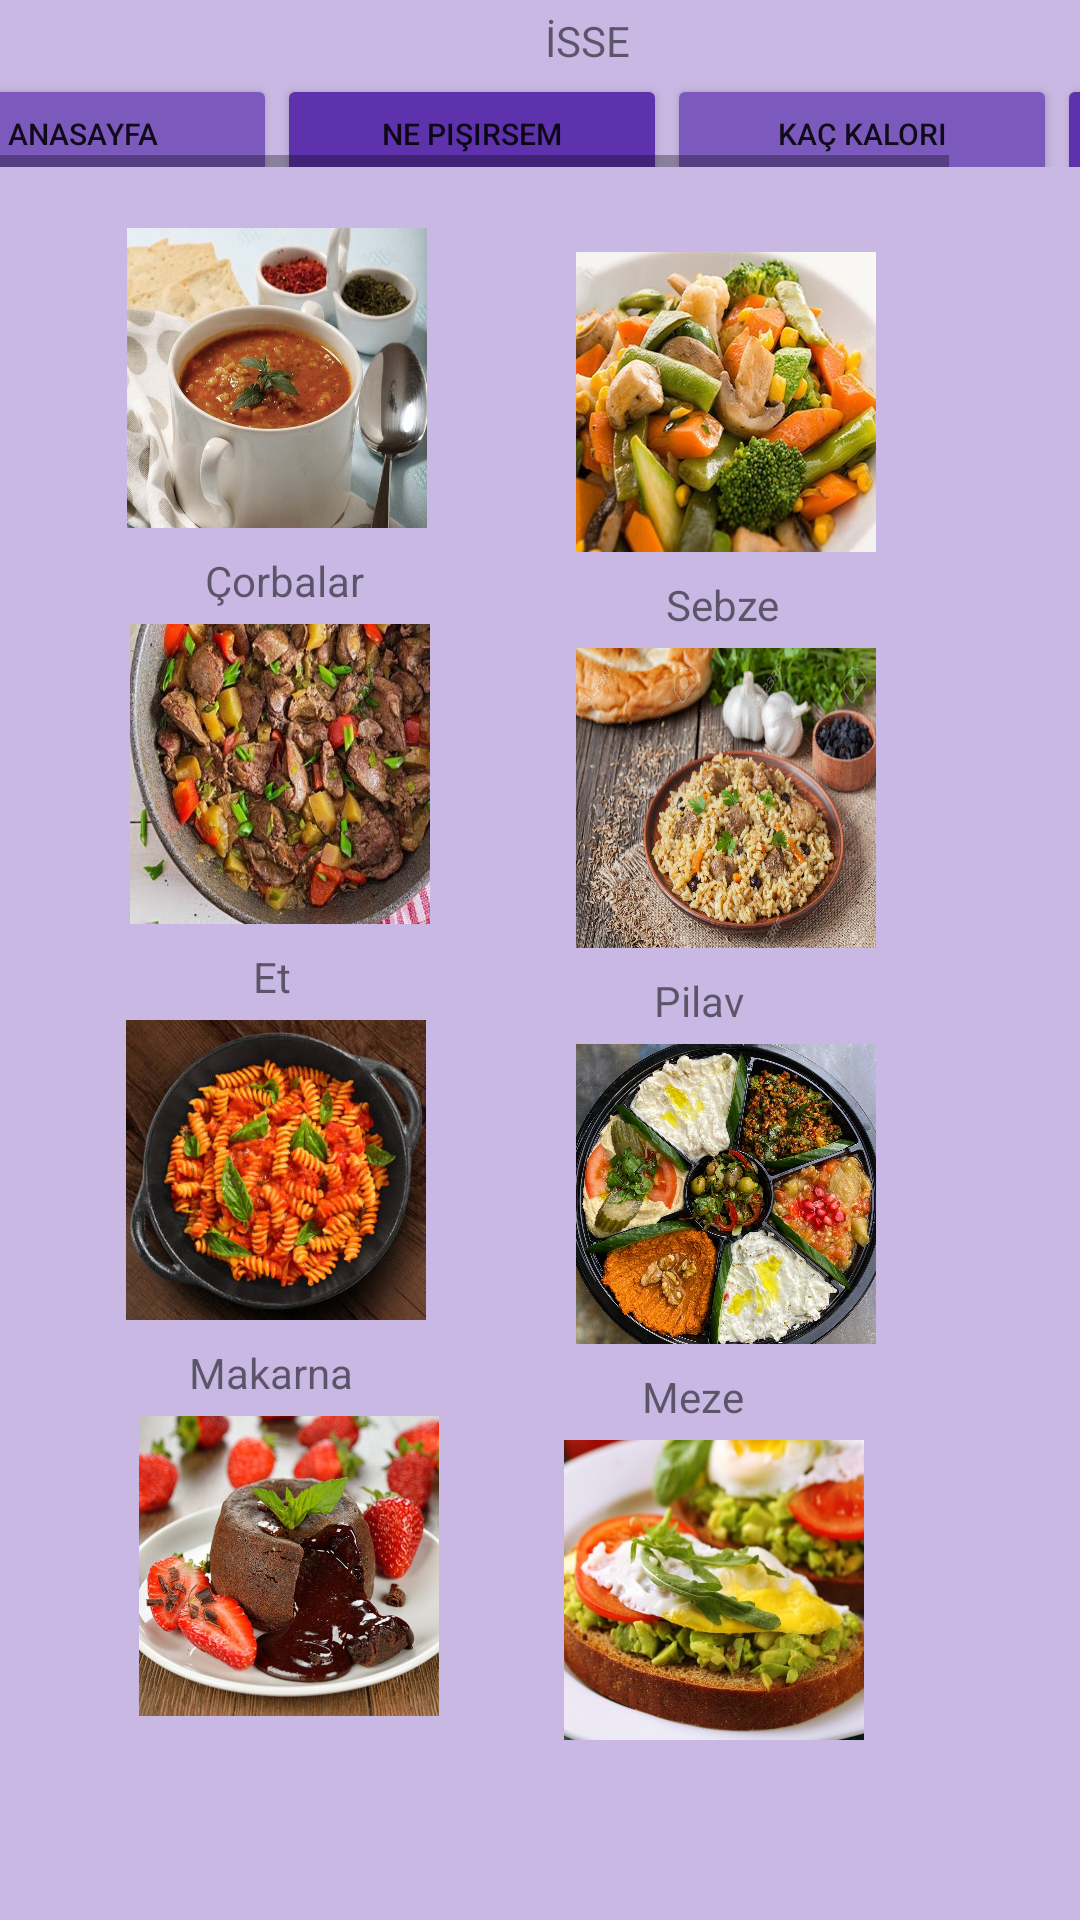

Locate icon controls on the screen. Image size 1080px x 1920px, boxes as [x1, y1, x2, y2].
fitt: [564, 1440, 864, 1740]
tatl: [139, 1416, 439, 1716]
